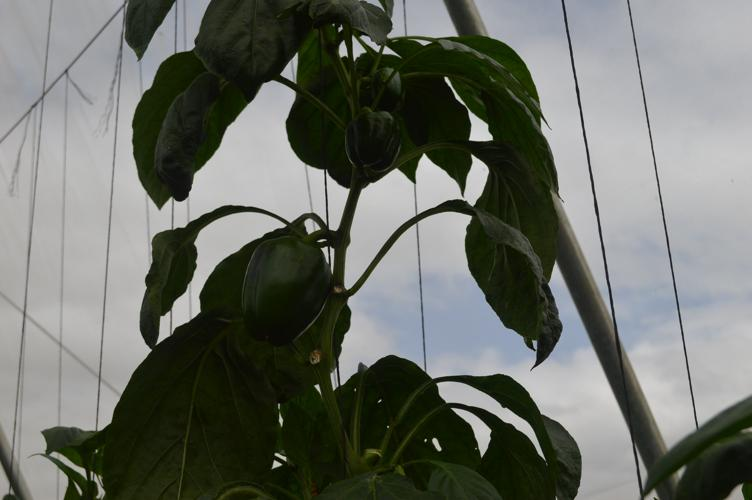BellPepper: (238, 237, 334, 342), (344, 112, 402, 173), (370, 67, 404, 107)
